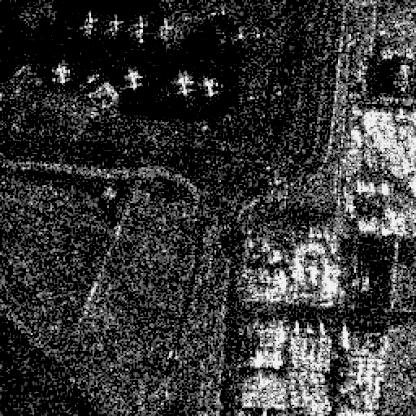airplane: (47, 59, 75, 86), (152, 13, 176, 44), (76, 10, 100, 37), (198, 72, 221, 99), (130, 12, 148, 46), (174, 72, 195, 99), (106, 13, 127, 39), (121, 68, 144, 90)
